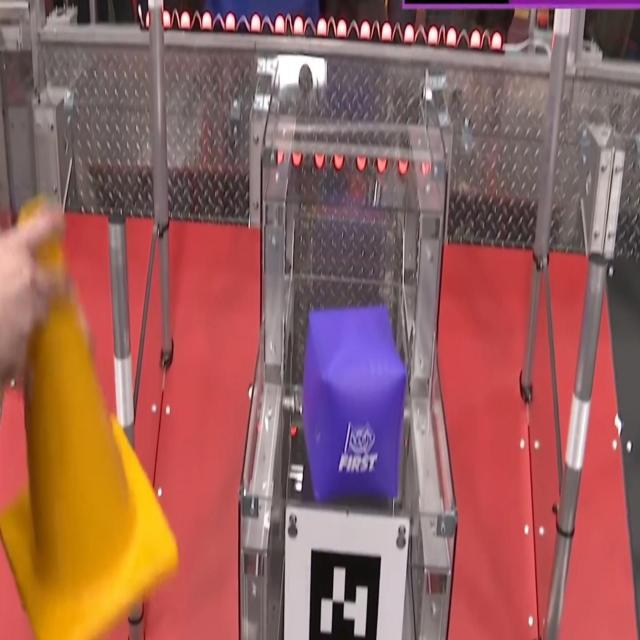frc_cone: (0, 196, 180, 640)
frc_cube: (306, 302, 409, 504)
